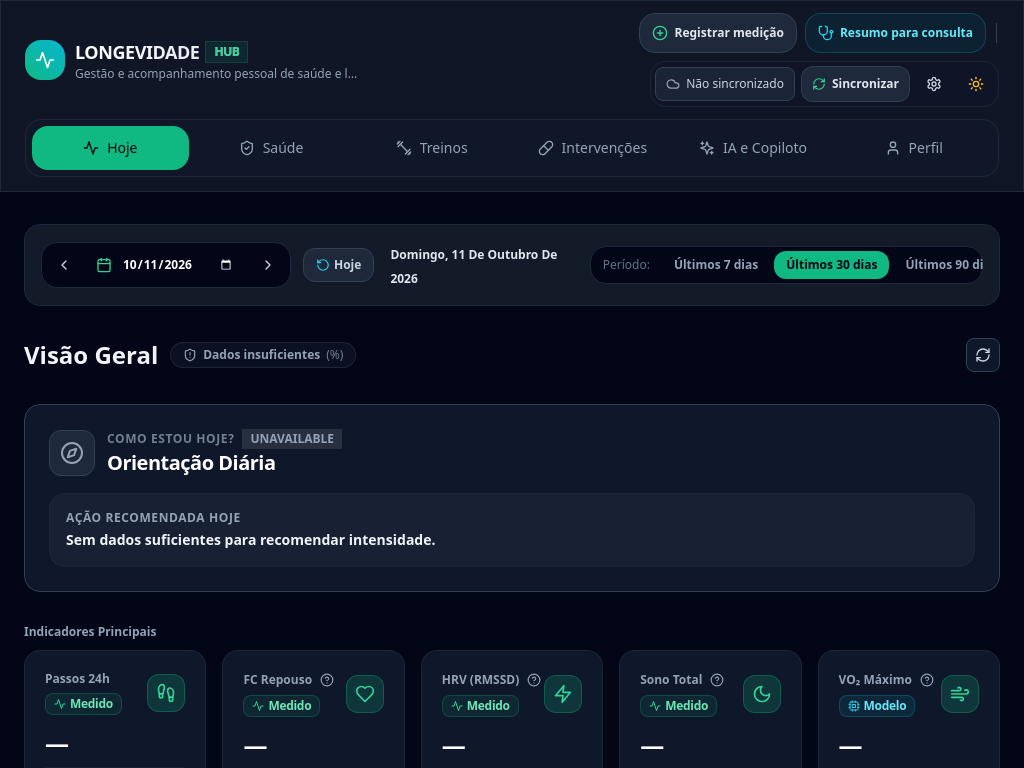
Test: App › posts manual metrics to /api/metrics and keeps the modal open on error
Click the button with aria-label "Registrar medição manual". click: (718, 33)
box: [640, 13, 797, 53]
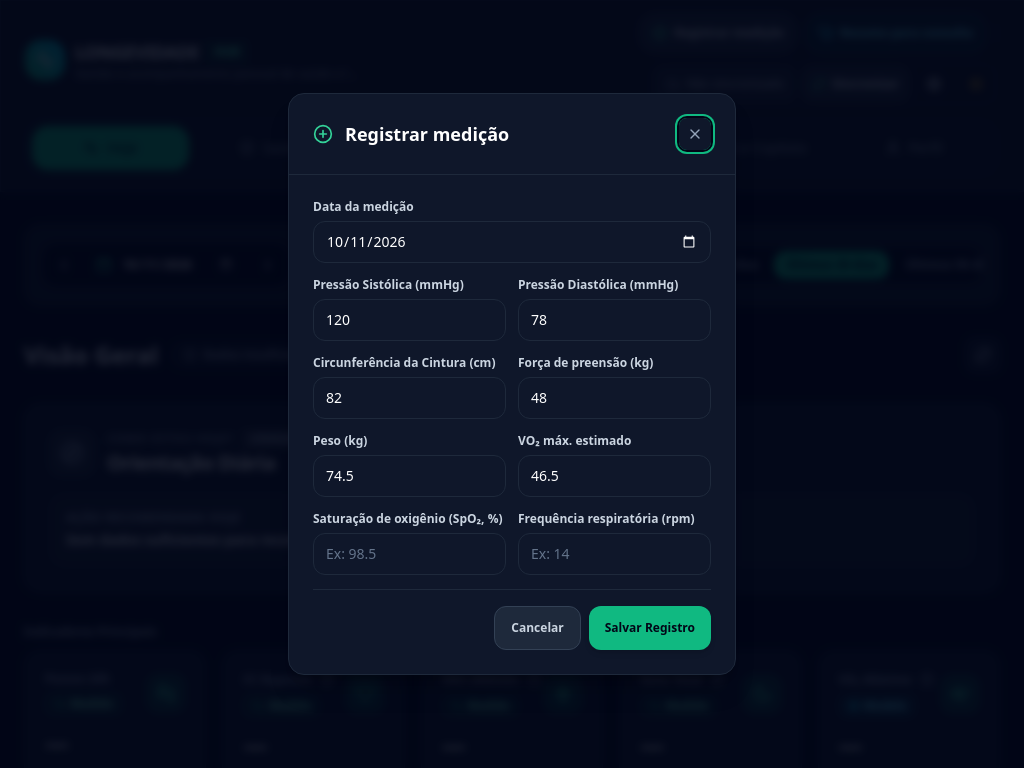
Type "2026-07-29" into the date field labelled "Data da medição". click: (512, 242)
box: [313, 221, 711, 263]
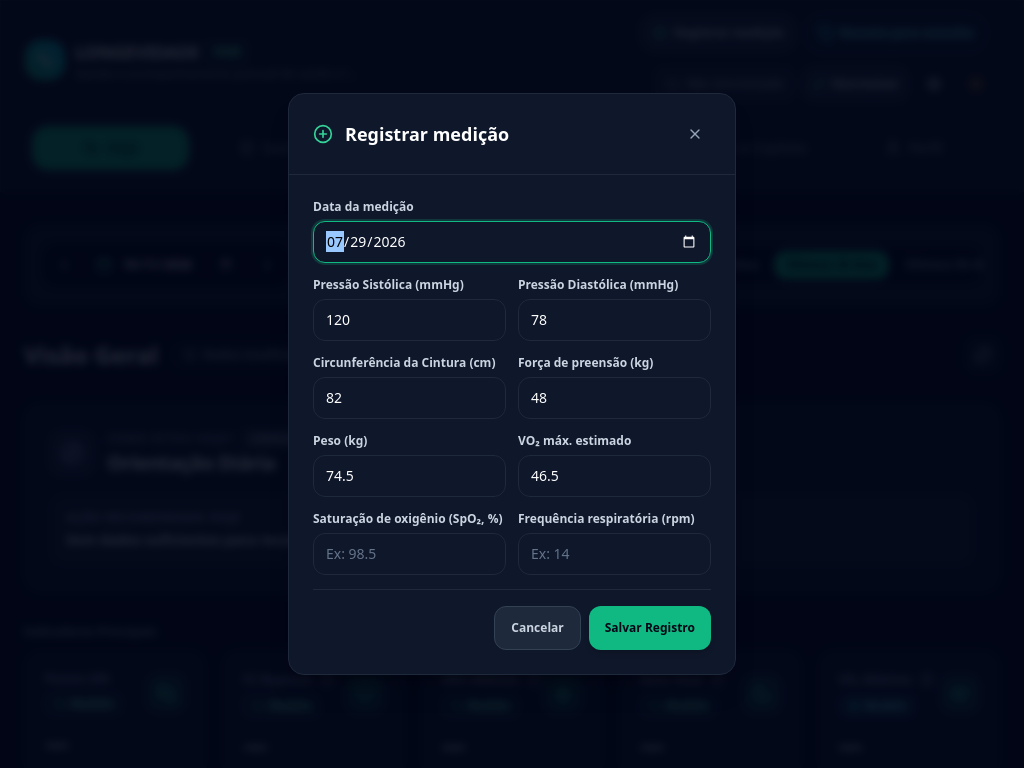
Replace the text in the number field labelled "Peso (kg)" with "72.5". click: (410, 476)
box: [313, 455, 506, 497]
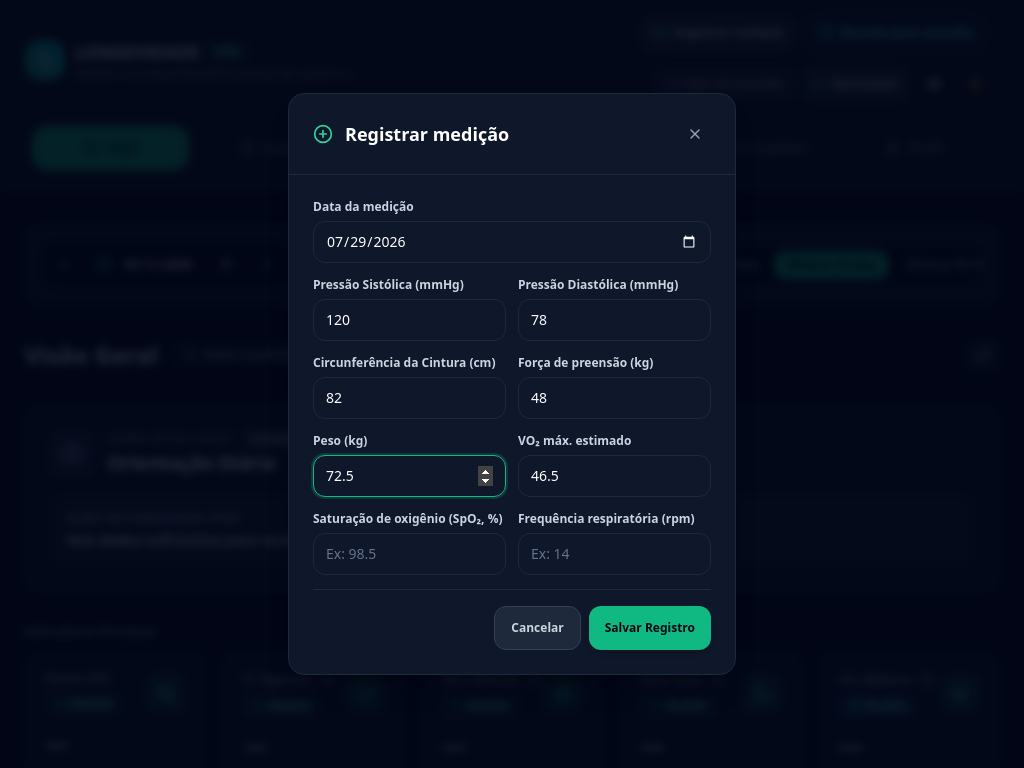
Click the button "Salvar Registro". click: (650, 628)
box: [589, 606, 711, 650]
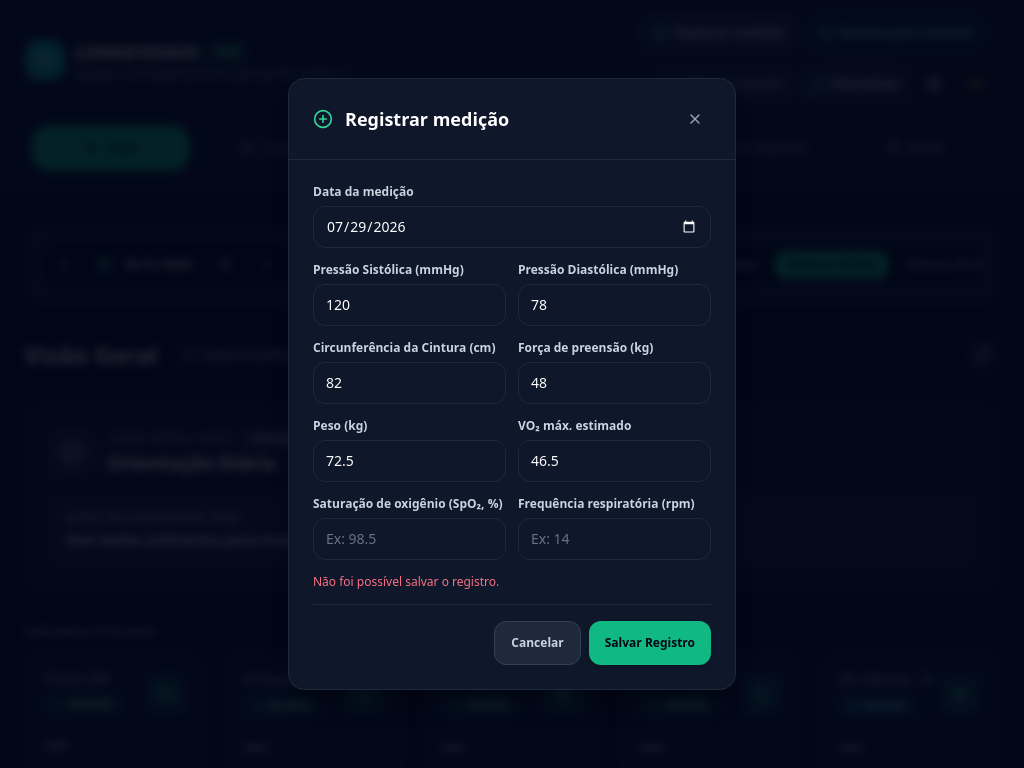
Now the message reads "Não foi possível salvar o registro.", box [313, 573, 499, 590]
